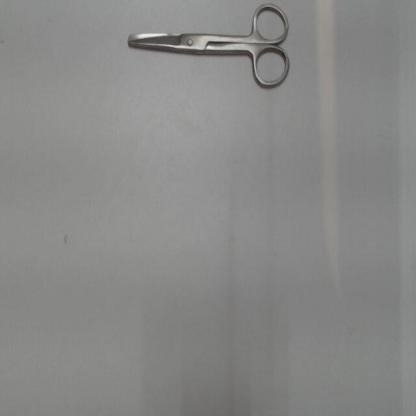Dressing Scissors: (113, 0, 298, 101)
